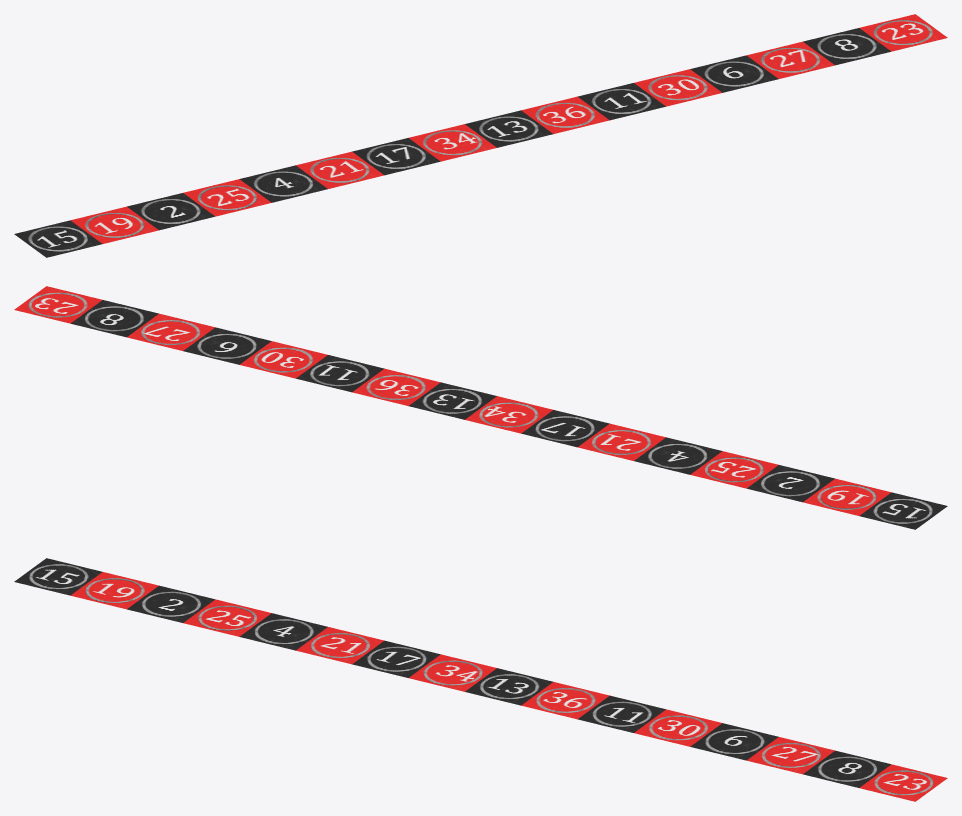
File: SM_Green_Roulette.fbx
3 renders of one model, top to bottom at view 1: azimuth 30°, elevation 25°; view 2: azimuth 150°, elevation 25°; view 3: azimuth 330°, elevation 25°, orthographic.
Visible parts, largest first — view 1: Plane; view 2: Plane; view 3: Plane.
Part boxes in pixels (left/top/right/bottom): Plane: left=14, top=14, right=947, bottom=257; Plane: left=14, top=286, right=947, bottom=529; Plane: left=14, top=558, right=947, bottom=801.
Size of the model in its own units: 3200 by 3.26e-05 by 200.
